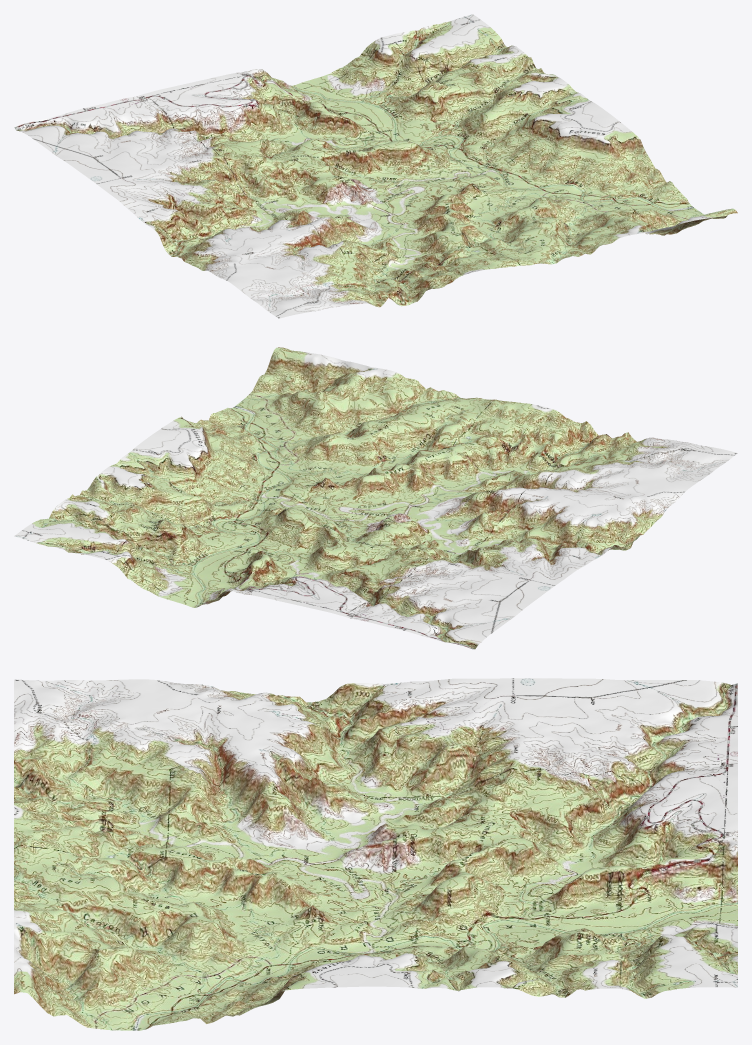
Rendered from Terrain.dae.
The picture shows the model from 3 angles, top to bottom: view 1: azimuth 30°, elevation 25°; view 2: azimuth 150°, elevation 25°; view 3: azimuth 270°, elevation 25°; orthographic projection. The views are drawn at different scales.
Parts seen in each view (by area): view 1: SketchUp; view 2: SketchUp; view 3: SketchUp.
Boxes of the visible parts, left/top/right/bottom form: SketchUp: left=14, top=14, right=737, bottom=318; SketchUp: left=14, top=347, right=737, bottom=649; SketchUp: left=14, top=678, right=737, bottom=1030.
Bounding box in the file's own units: 33.22 × 33.22 × 2.35.
